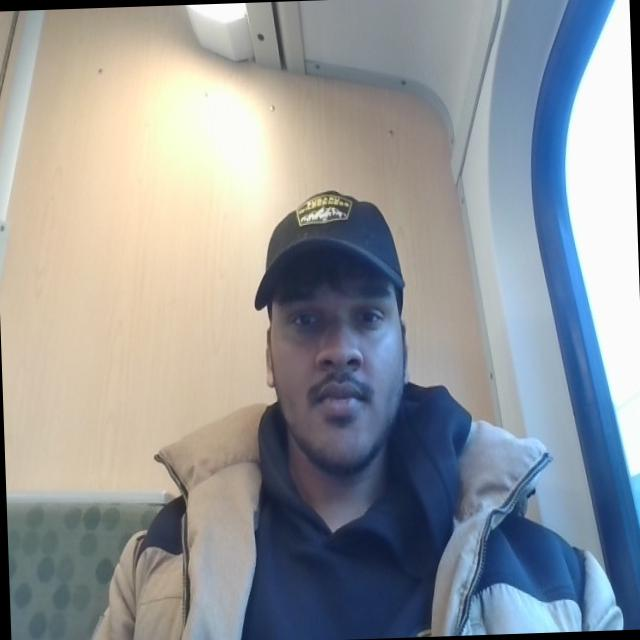hat: (230, 177, 418, 310)
